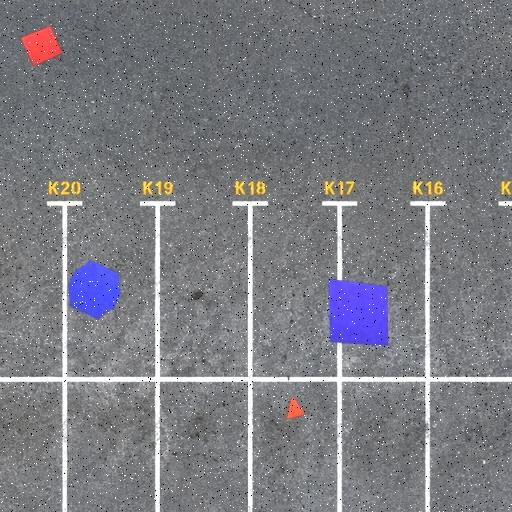BLUE_SQUARE: (328, 278, 390, 346)
RED_SQUARE: (20, 25, 63, 67)
